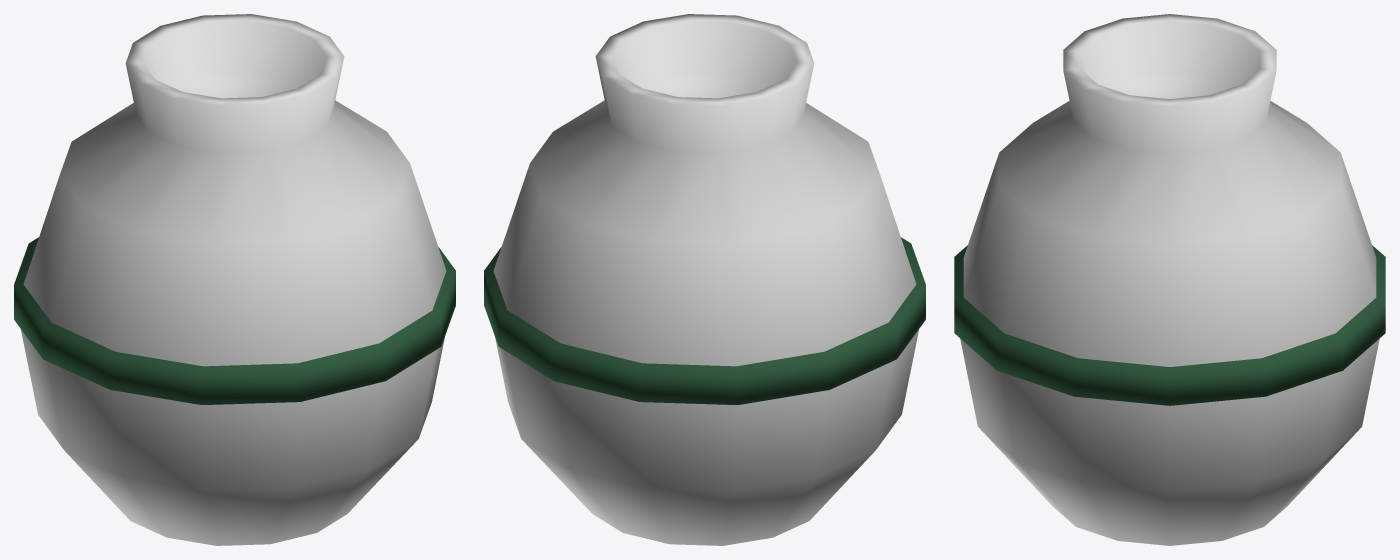
Rendered from pot_v2.glb.
The picture shows the model from 3 angles, left to right: view 1: azimuth 30°, elevation 25°; view 2: azimuth 150°, elevation 25°; view 3: azimuth 270°, elevation 25°; orthographic projection.
Visible parts, largest first — view 1: clay_pot_v2; view 2: clay_pot_v2; view 3: clay_pot_v2.
Boxes of the visible parts, box(x1,y1,x2,y2) form: clay_pot_v2: box(14, 14, 455, 545); clay_pot_v2: box(484, 14, 925, 545); clay_pot_v2: box(954, 14, 1385, 545).
Size of the model in its own units: 0.8291 by 0.8993 by 0.8083.
